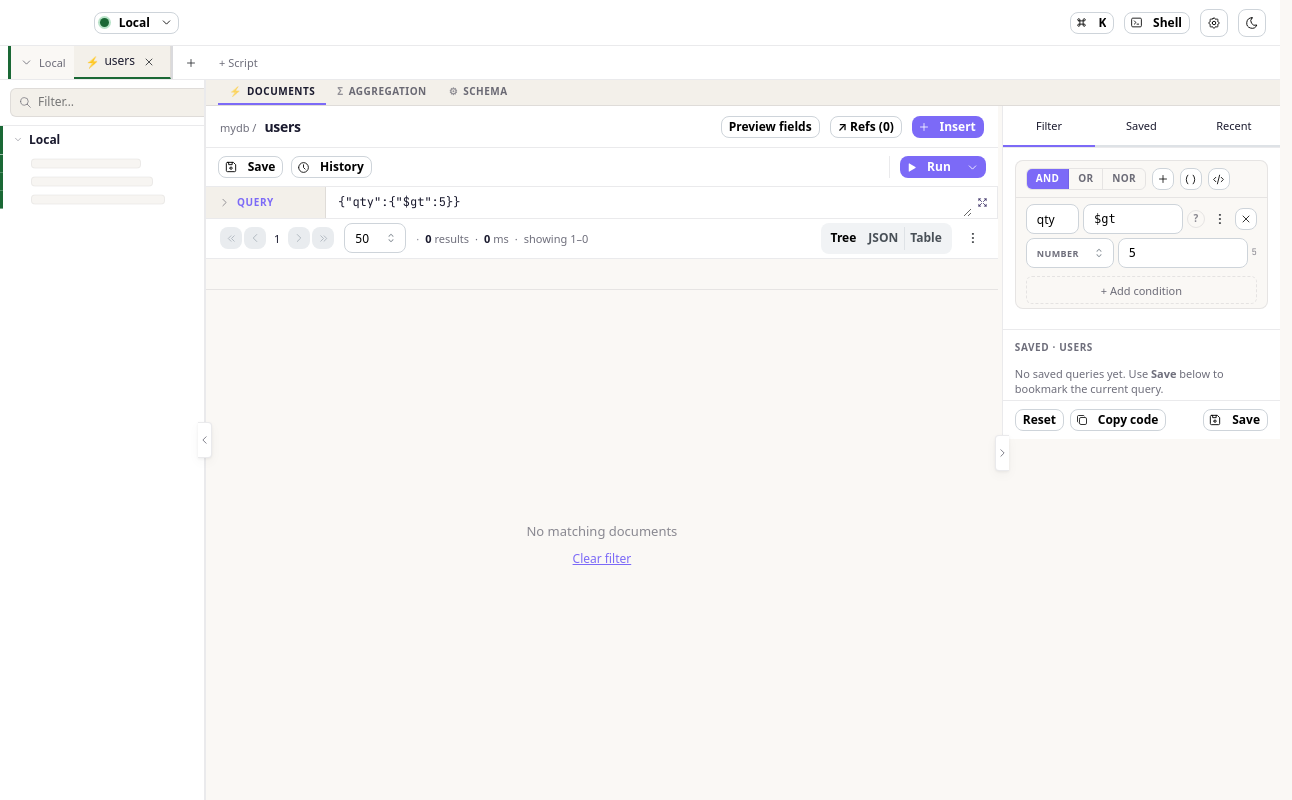
Filter drawer — print failure (W13 §5, §11) › fixing the value clears the problem and the badge, and prints normally
This screenshot has width=1292, height=800.
Replace the text in the 3rd field with placeholder "value" with "nope" at (1183, 253), box [1118,238,1248,268]
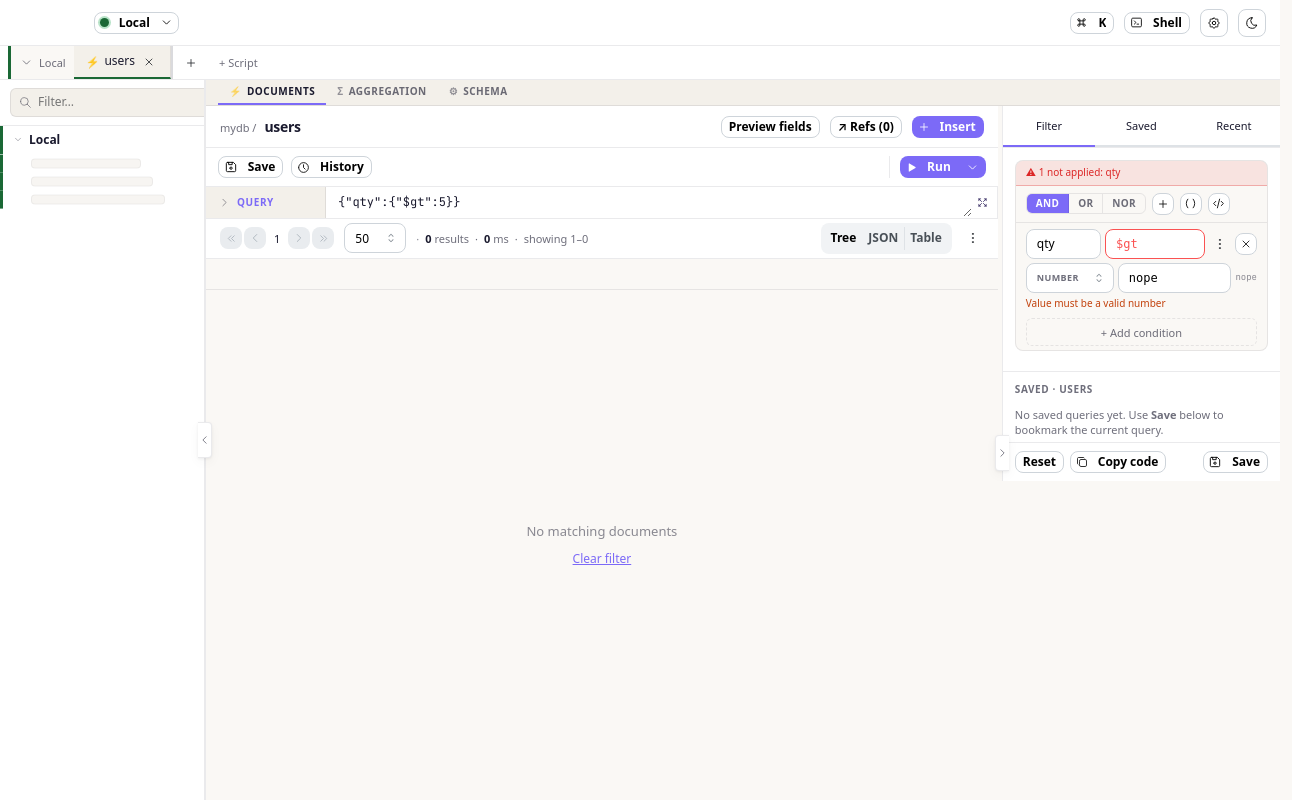
Expected: the message "⚠ 1 not applied: qty" is shown, [1016,161,1267,186]
Replace the text in the field with placeholder "value" next to "nope" with "10" at (1175, 278), box [1118,262,1231,292]
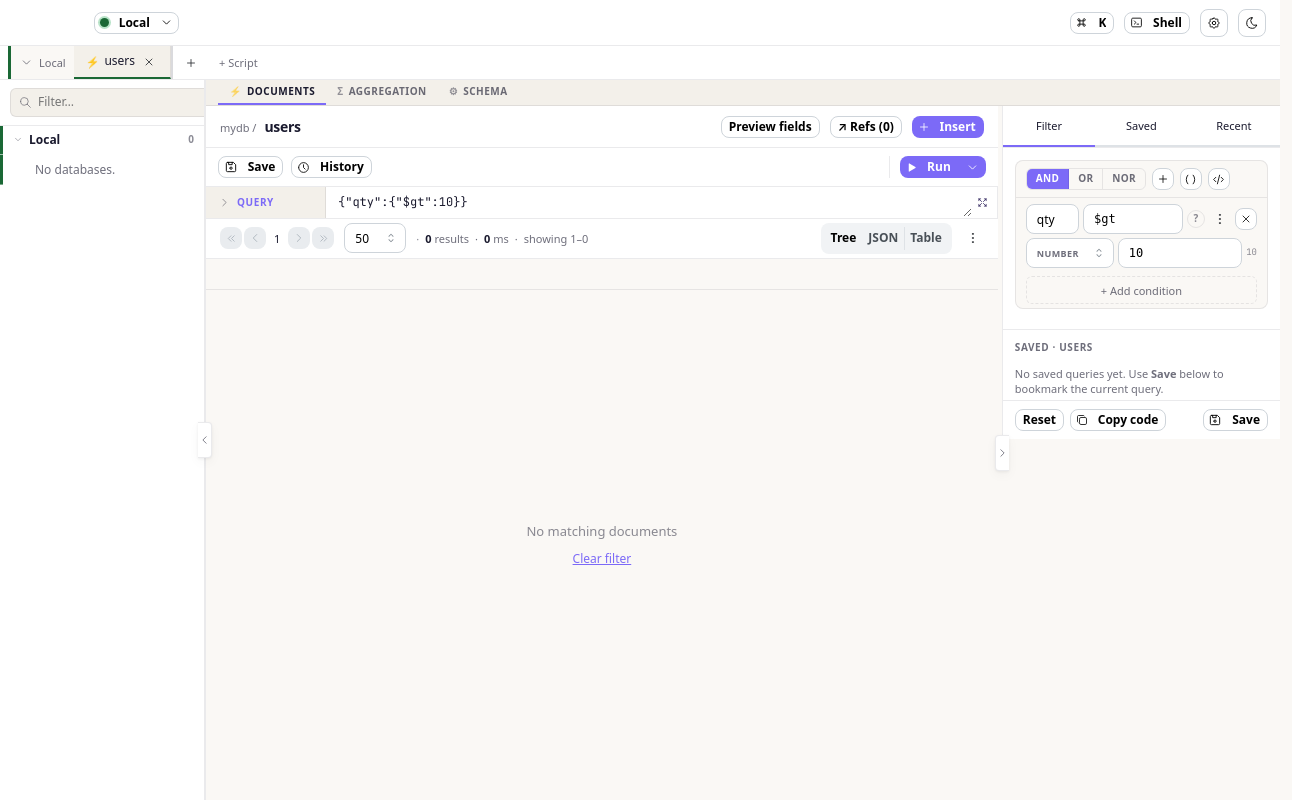
Expected: the message "⚠ 1 not applied: qty" is gone
